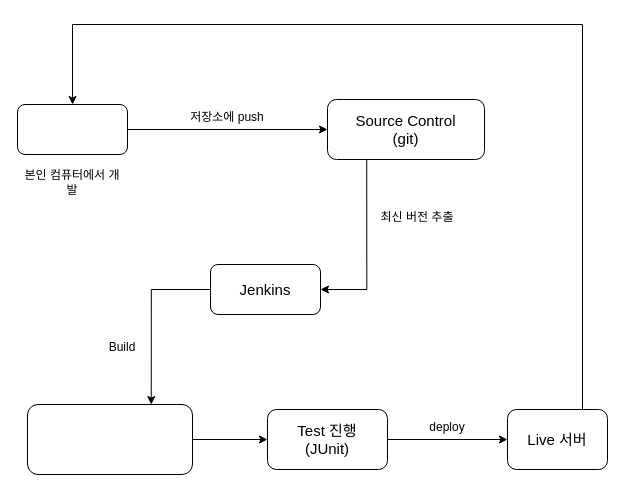
Image size: 625x492. Some labels were removed from this diagram. Here are the shapes that lost their labels. From the top down, the centre of each, then its label:
At [72,129]: "developer".
At [109,439]: "Build 결과물 (exe, app...)".
